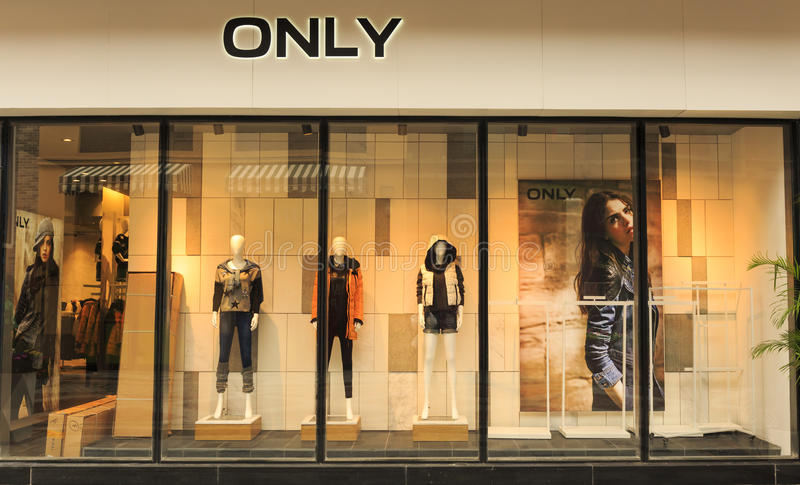person-like: (305, 230, 368, 426), (209, 230, 267, 424), (410, 230, 466, 423), (111, 216, 130, 299)
